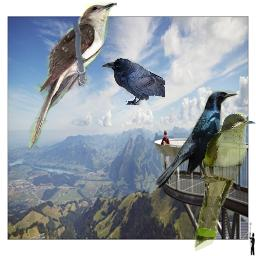Crow: (153, 90, 238, 189), (102, 58, 165, 105)
Cuckoo: (29, 2, 117, 149), (194, 113, 256, 251)
